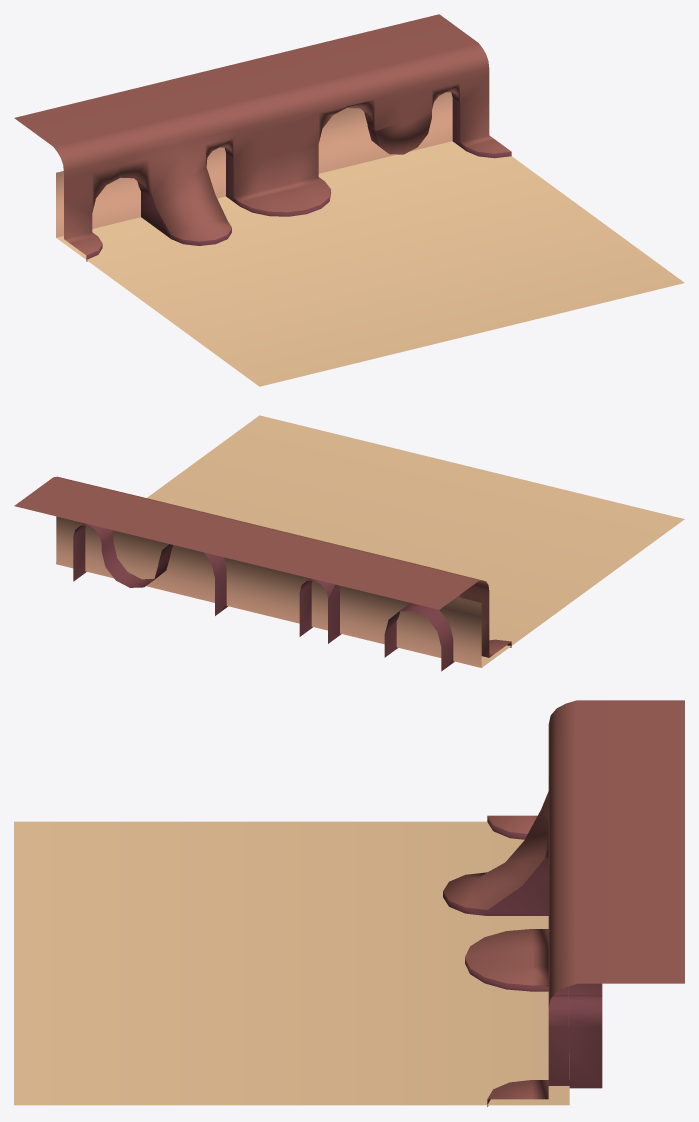
Rendered from SM_Tile_Wall_v2.fbx.
3 renders of one model, top to bottom at view 1: azimuth 30°, elevation 25°; view 2: azimuth 150°, elevation 25°; view 3: azimuth 270°, elevation 25°, orthographic. The views are drawn at different scales.
Parts seen in each view (by area): view 1: SM_Tile_Wall_v6; view 2: SM_Tile_Wall_v6; view 3: SM_Tile_Wall_v6.
Boxes of the visible parts, x1,y1,x2,y2 form: SM_Tile_Wall_v6: [14, 14, 684, 386]; SM_Tile_Wall_v6: [14, 415, 684, 671]; SM_Tile_Wall_v6: [14, 700, 684, 1106].
Size of the model in its own units: 446 by 90.94 by 446.
